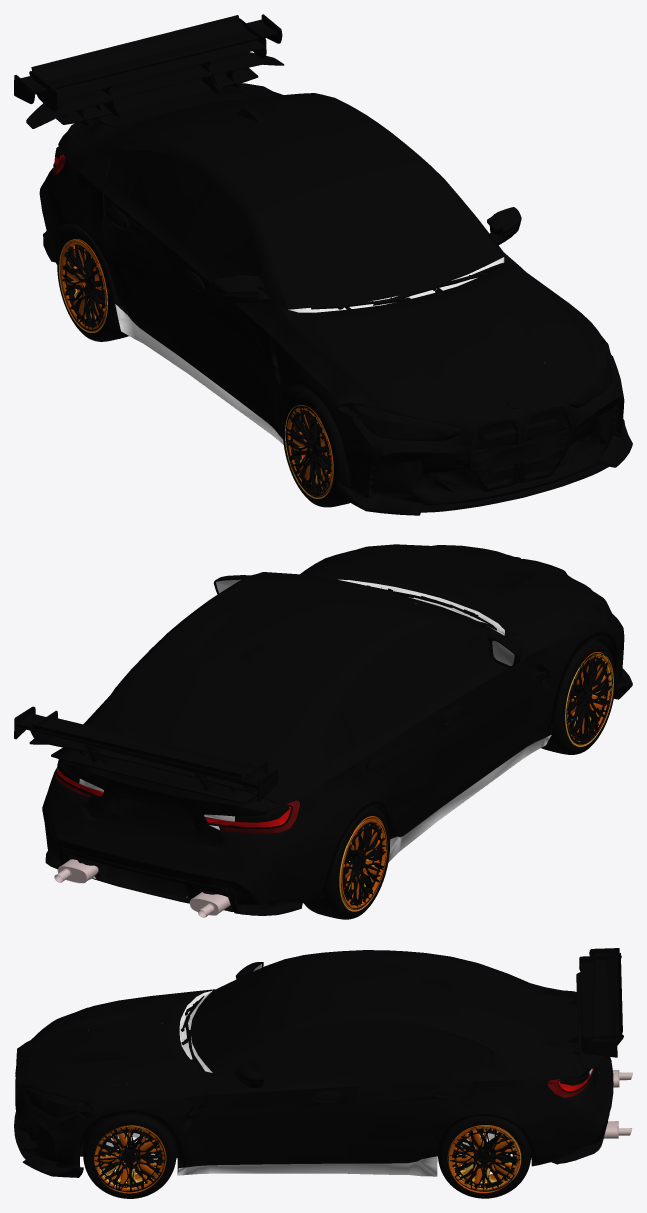
File: bmw_m3.glb
3 views of the same model, one above another, from view 1: azimuth 30°, elevation 25°; view 2: azimuth 150°, elevation 25°; view 3: azimuth 270°, elevation 25° (orthographic). The views are drawn at different scales.
Parts seen in each view (by area): view 1: Body, Glass, Hood_A, FrontBumper_A, Frontdoors, Backdoors, Grille, Spoiler_C, Spoiler_A, Spoiler_B, Front_Lip_A, Headlights (+13 smaller); view 2: Body, Glass, RearBumper_A, Hood_A, Frontdoors, Trunk, Backdoors, Diffuser, Spoiler_A, Taillights, Spoiler_C, Spoiler_D (+16 smaller); view 3: Body, Glass, Hood_A, Frontdoors, Backdoors, RearBumper_A, FrontBumper_A, Trunk, Spoiler_C, Tire_FL, Tire_BL, Spoiler_A (+20 smaller).
Part boxes in pixels (x1,y1,x2,y2): Body: (52, 85, 605, 444); Glass: (96, 93, 503, 309); Hood_A: (288, 257, 591, 418); FrontBumper_A: (330, 342, 624, 504); Frontdoors: (174, 243, 272, 421); Backdoors: (102, 181, 184, 355); Grille: (271, 349, 623, 497); Spoiler_C: (29, 15, 266, 118); Spoiler_A: (14, 14, 282, 112); Spoiler_B: (26, 52, 284, 128); Front_Lip_A: (337, 419, 632, 515); Headlights: (348, 345, 612, 442); Body: (60, 550, 607, 862); Glass: (98, 585, 503, 765); RearBumper_A: (42, 779, 343, 905); Hood_A: (300, 544, 591, 635); Frontdoors: (420, 656, 533, 806); Trunk: (73, 719, 291, 851); Backdoors: (342, 706, 441, 834); Diffuser: (45, 850, 325, 915); Spoiler_A: (14, 706, 278, 801); Taillights: (52, 759, 301, 837); Spoiler_C: (30, 710, 267, 792); Spoiler_D: (51, 747, 257, 803); Body: (50, 950, 590, 1176); Glass: (190, 957, 546, 1080); Hood_A: (33, 990, 212, 1092); Frontdoors: (203, 1075, 359, 1164); Backdoors: (346, 1071, 478, 1162); RearBumper_A: (515, 1056, 613, 1161); FrontBumper_A: (15, 1031, 99, 1166); Trunk: (530, 983, 599, 1093); Spoiler_C: (564, 953, 623, 1053); Tire_FL: (83, 1115, 176, 1198); Tire_BL: (438, 1116, 530, 1198); Spoiler_A: (587, 948, 619, 1057).
Size of the model in its own units: 0.4575 by 0.3128 by 1.03.
